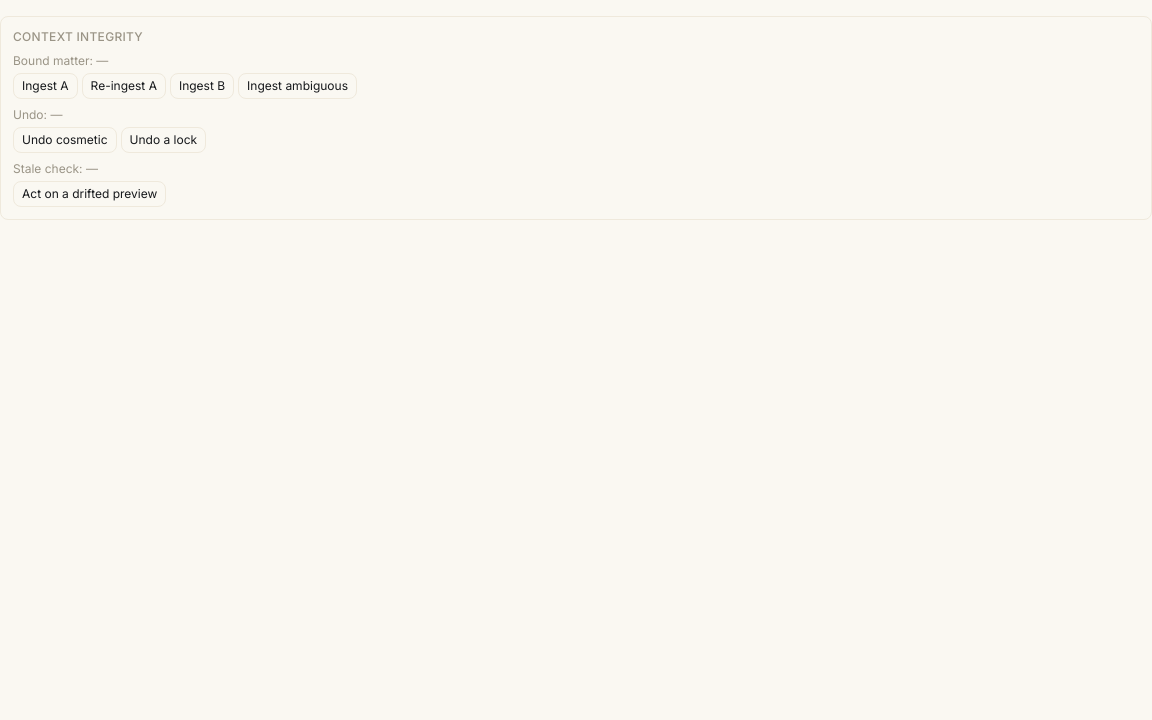
stale-preview guard, live › acting on a drifted preview is caught + re-confirmed against current (privilege unchanged, recipient moved -> HARD)
This screenshot has width=1152, height=720.
Click the button with test id "ci-act-stale". click: [90, 194]
box: left=13, top=181, right=166, bottom=207
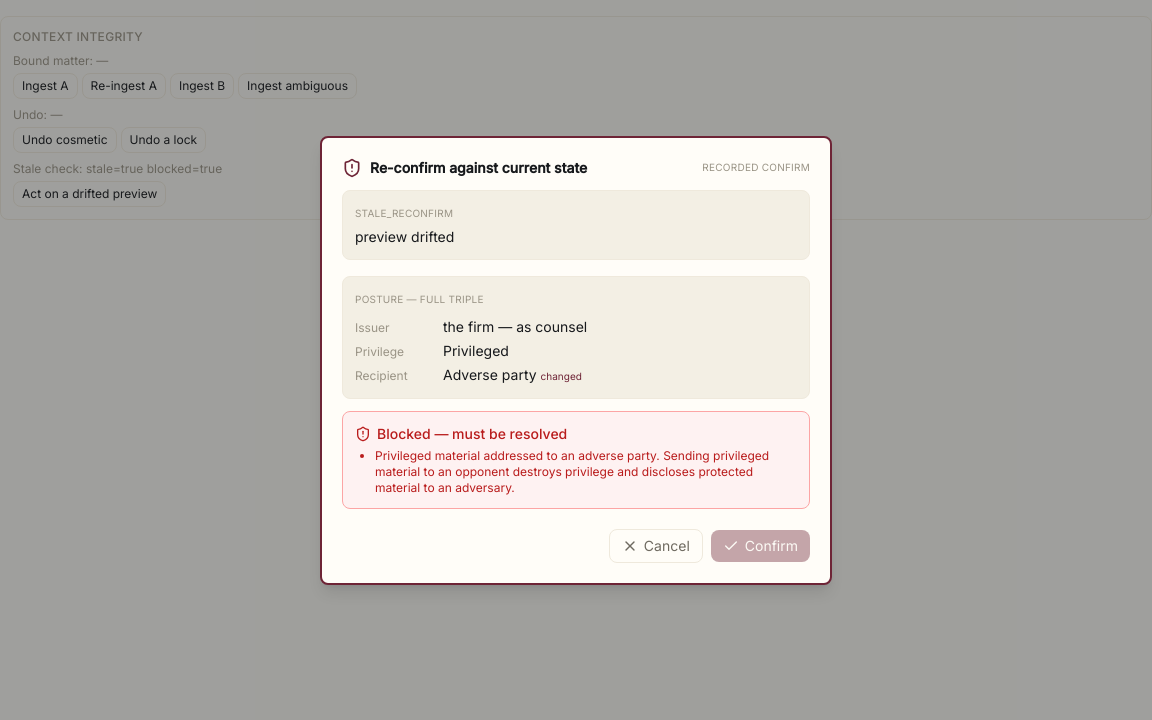
Result: the text with test id "ci-stale-result" shows "stale=true blocked=true" at left=86, top=161, right=222, bottom=176
Result: the element with test id "confirm-overlay" is shown
Result: the element with test id "confirm-hard" is shown at left=342, top=410, right=810, bottom=508
